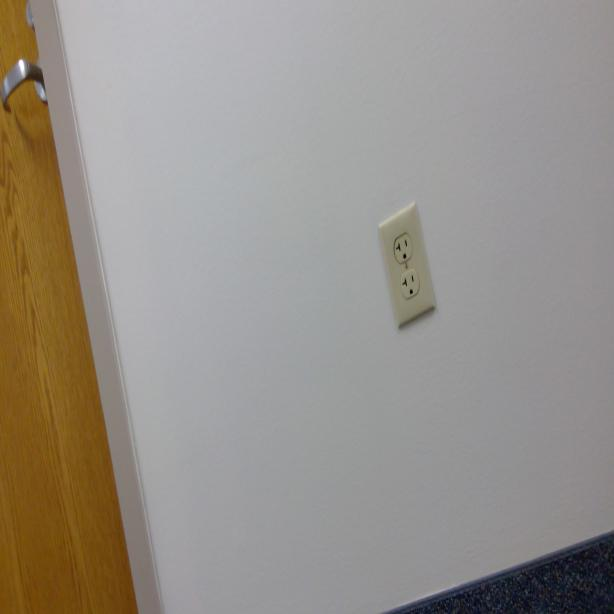typeb: (392, 231, 415, 265), (400, 269, 420, 297)
